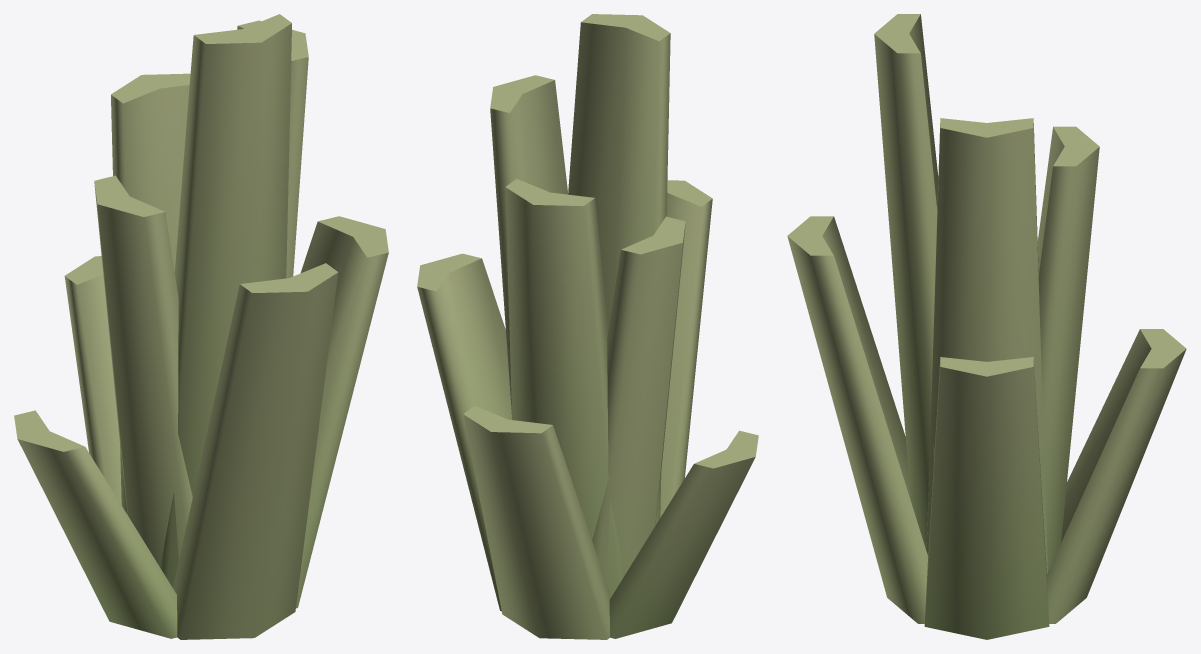
File: plant-separate-type-b.glb
3 renders of one model, left to right at view 1: azimuth 30°, elevation 25°; view 2: azimuth 150°, elevation 25°; view 3: azimuth 270°, elevation 25°, orthographic. The views are drawn at different scales.
Visible parts, largest first — view 1: plant-separate-type-b; view 2: plant-separate-type-b; view 3: plant-separate-type-b.
Boxes of the visible parts, bbox=[...] form: plant-separate-type-b: bbox=[14, 14, 388, 639]; plant-separate-type-b: bbox=[417, 14, 758, 639]; plant-separate-type-b: bbox=[787, 14, 1186, 639].
Size of the model in its own units: 0.358 by 0.558 by 0.358.
